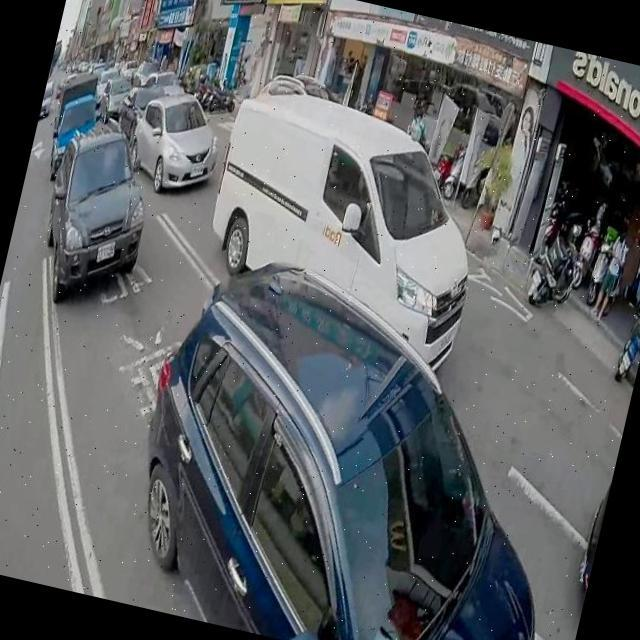person: (588, 226, 632, 324), (622, 222, 640, 316), (412, 114, 436, 151)
